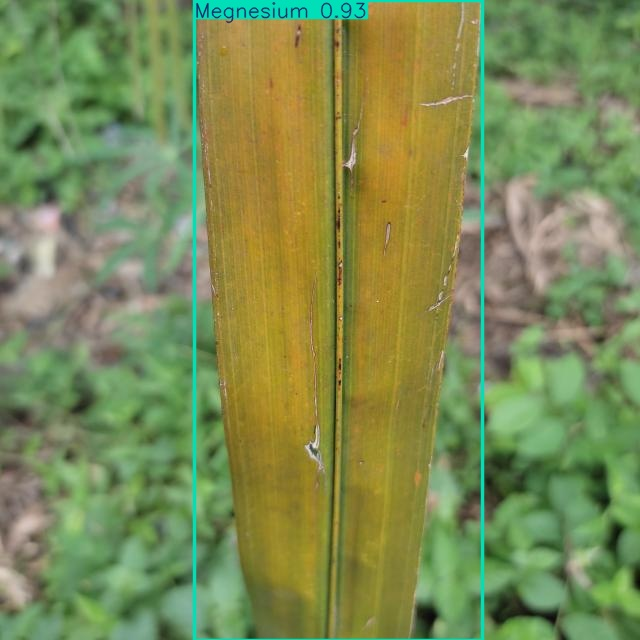Megnesium: (194, 0, 482, 640)
